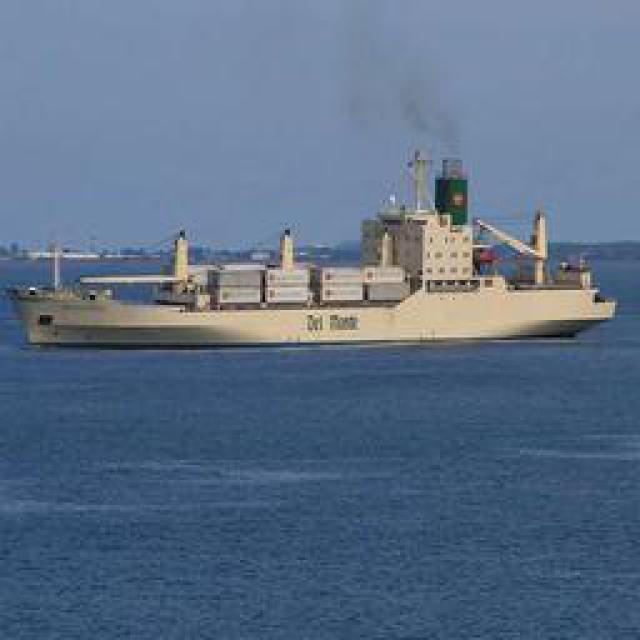Ship: (2, 144, 623, 350)
